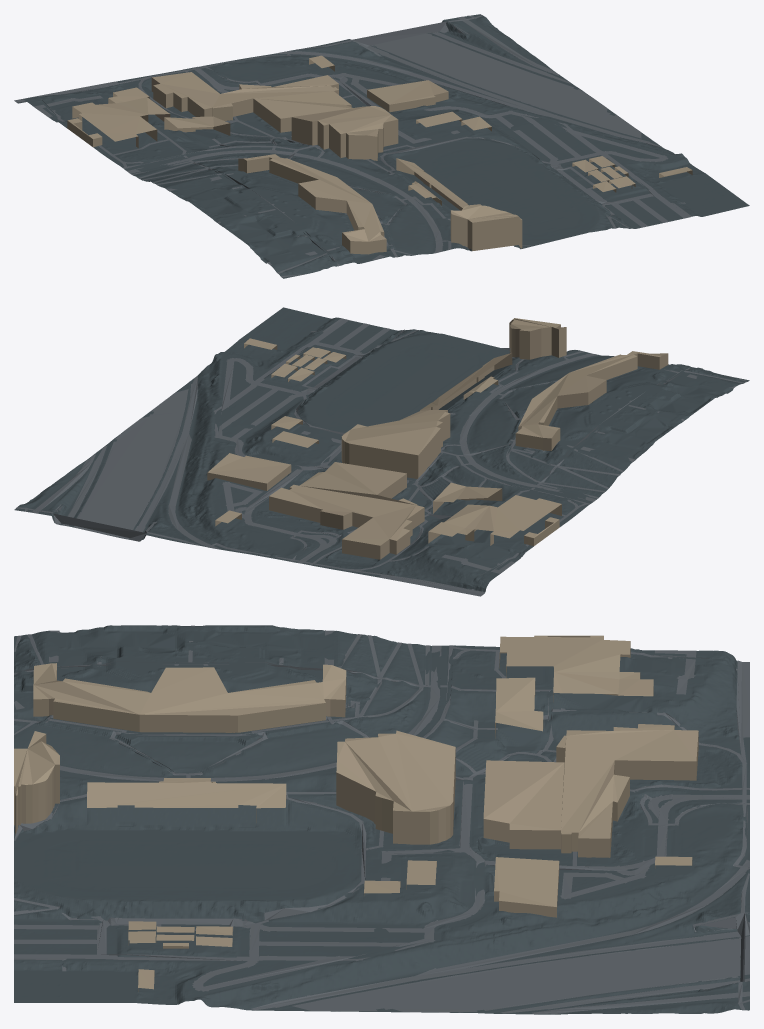
Rendered from epsg26910-1428-10873.lod0.glb.
The picture shows the model from 3 angles, top to bottom: view 1: azimuth 30°, elevation 25°; view 2: azimuth 150°, elevation 25°; view 3: azimuth 270°, elevation 25°; orthographic projection. The views are drawn at different scales.
Visible parts, largest first — view 1: epsg26910-1428-10873-lod0; view 2: epsg26910-1428-10873-lod0; view 3: epsg26910-1428-10873-lod0.
Part boxes in pixels (x1,y1,x2,y2): epsg26910-1428-10873-lod0: [14, 14, 749, 278]; epsg26910-1428-10873-lod0: [14, 307, 749, 596]; epsg26910-1428-10873-lod0: [14, 625, 749, 1014].
Bounding box in the file's own units: 384 × 55.63 × 384.
